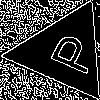P: (39, 27, 100, 78)
